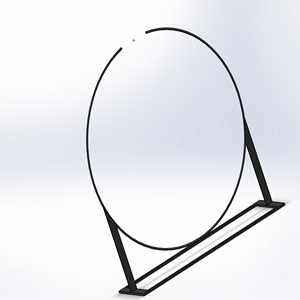circle: (84, 25, 284, 297)
